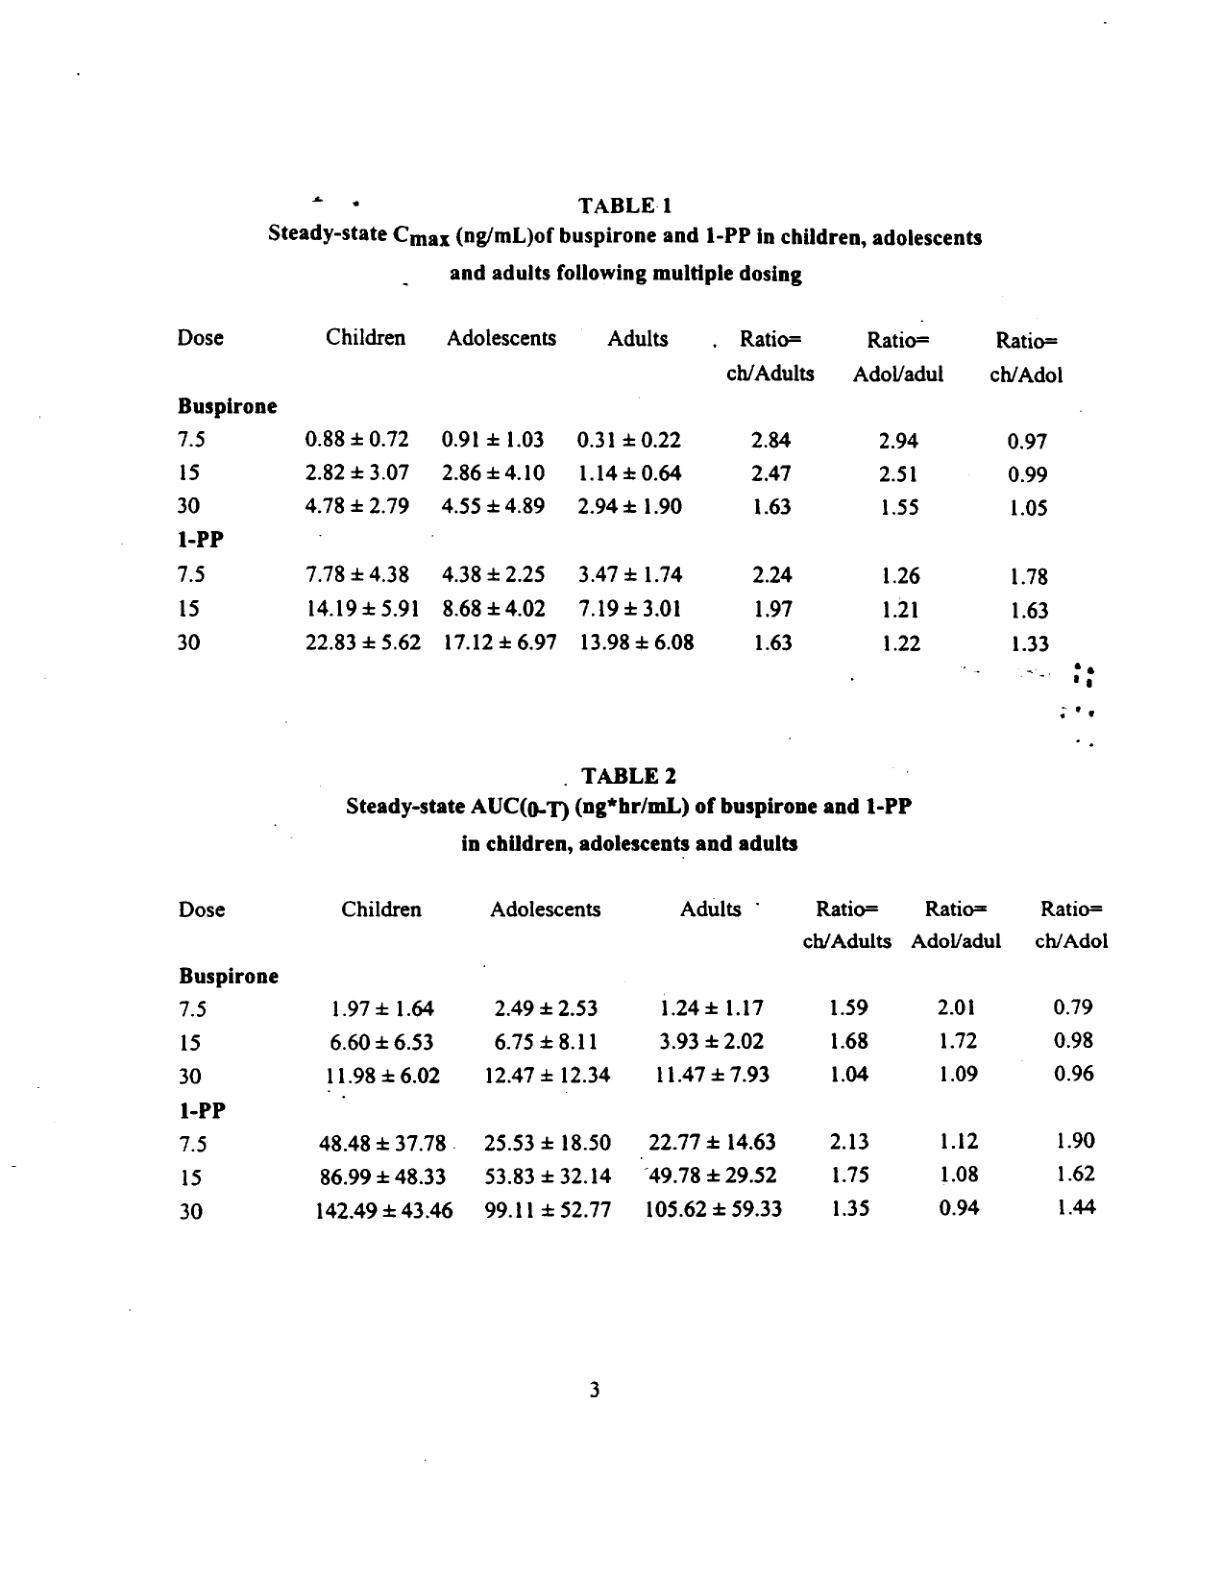nolines: (177, 897, 1112, 1222), (173, 325, 1068, 656)
